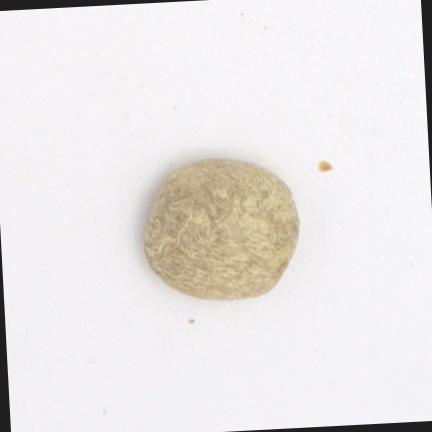husk: (146, 160, 300, 300)
